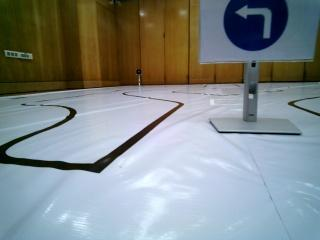left: (201, 2, 315, 60)
